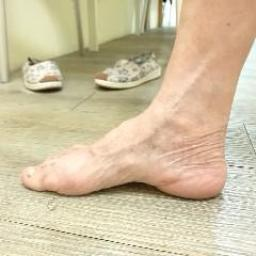Medial View -Right Foot-: (13, 91, 248, 222)
